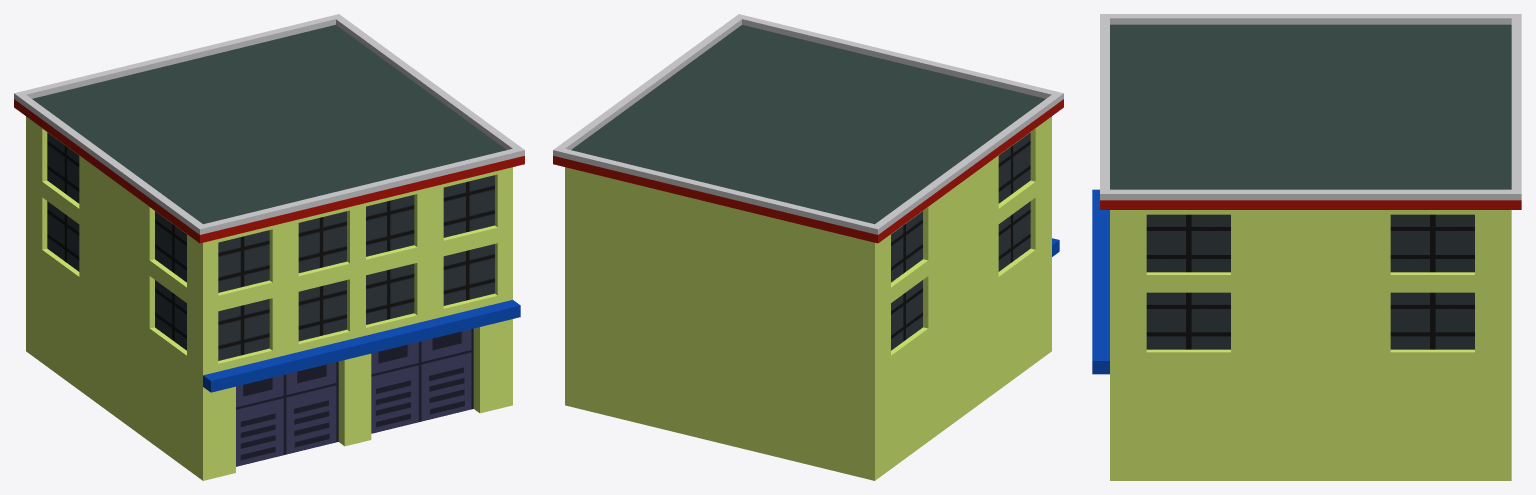
File: building4c.FBX
3 renders of one model, left to right at view 1: azimuth 30°, elevation 25°; view 2: azimuth 150°, elevation 25°; view 3: azimuth 270°, elevation 25°, orthographic. The views are drawn at different scales.
Visible parts, largest first — view 1: building4c; view 2: building4c; view 3: building4c.
Boxes of the visible parts, x1=… form: building4c: x1=14, y1=14, x2=524, y2=480; building4c: x1=553, y1=14, x2=1063, y2=480; building4c: x1=1092, y1=14, x2=1521, y2=480.
Bounding box in the file's own units: 21.4 × 16.15 × 21.59.
